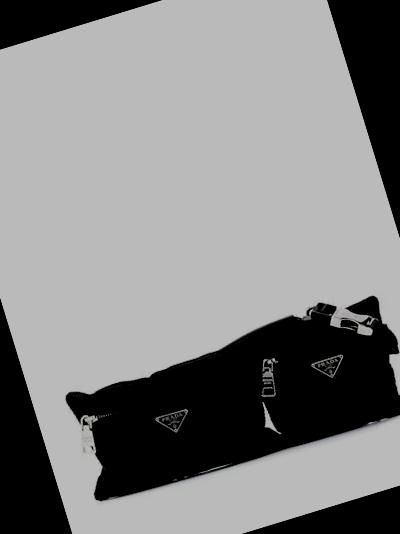PRADA: (154, 407, 194, 437), (310, 352, 349, 382)
